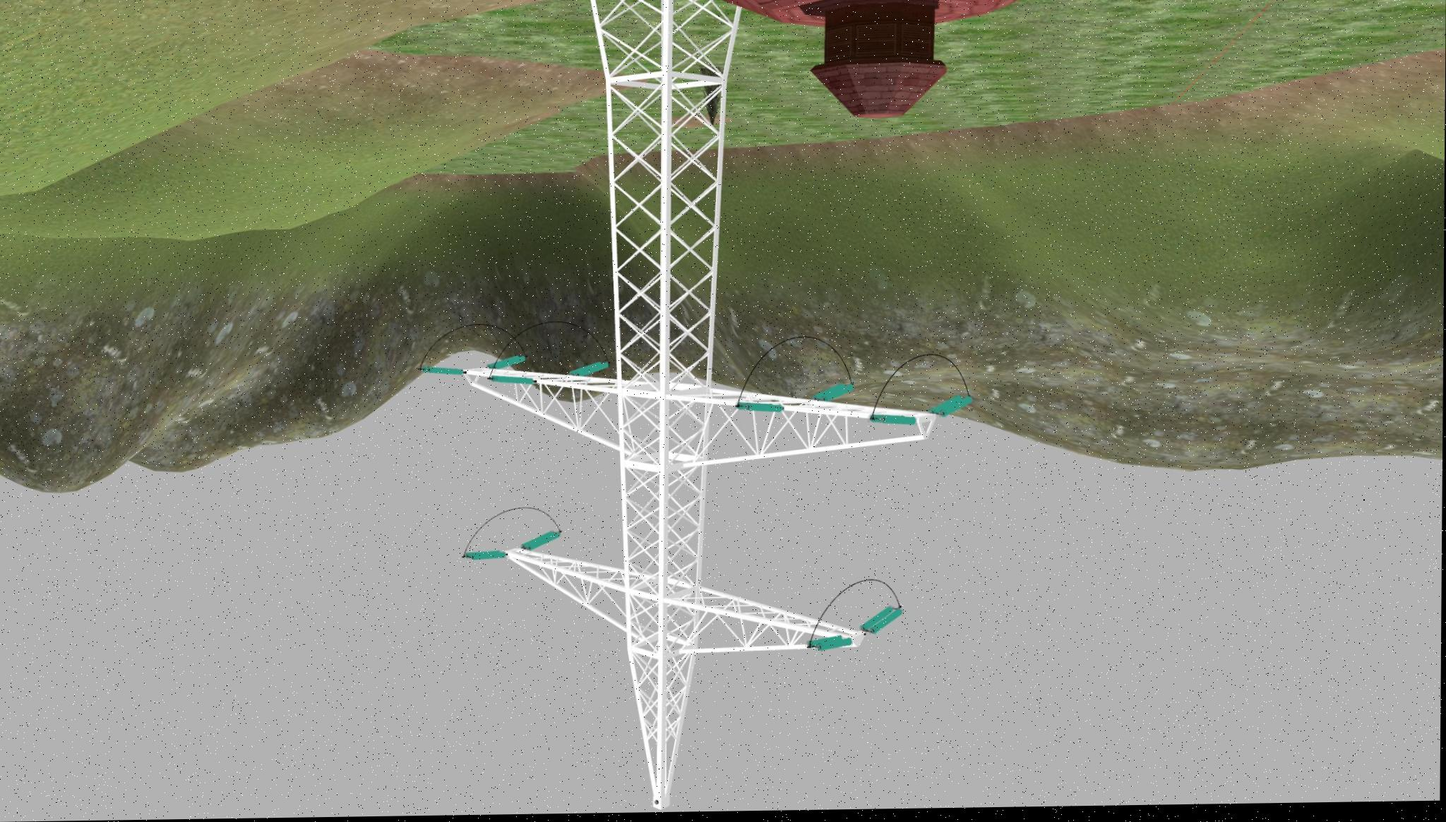tower: (461, 0, 936, 813)
